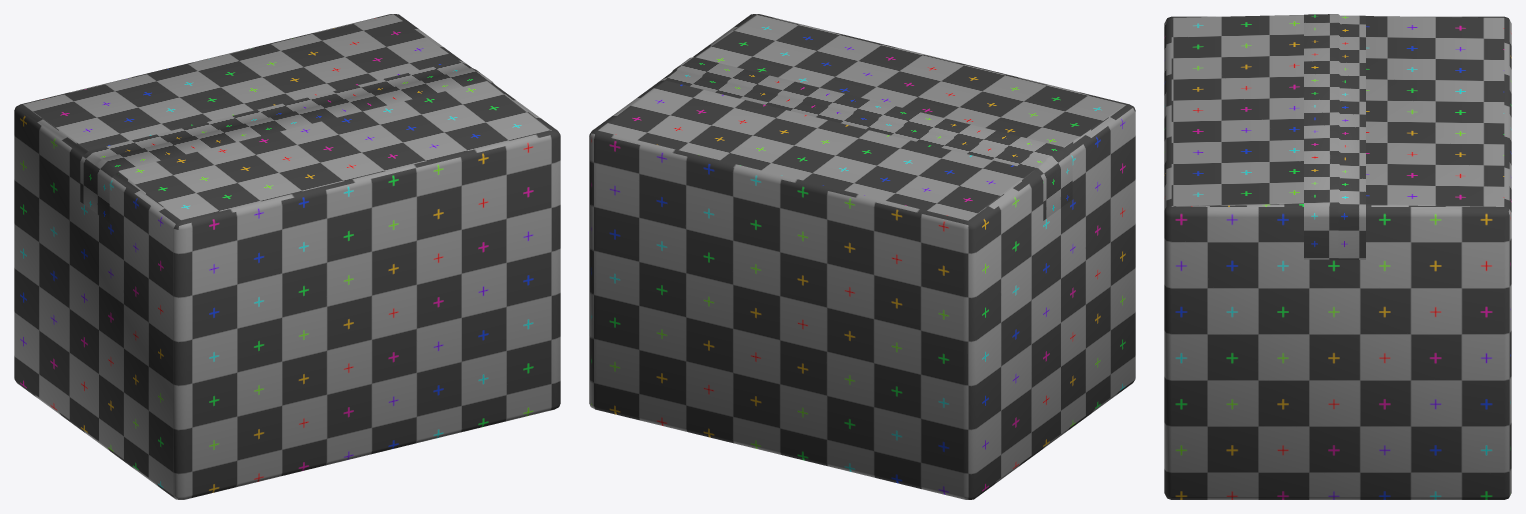
Rendered from package_uv.glb.
3 views of the same model, side by side, from view 1: azimuth 30°, elevation 25°; view 2: azimuth 150°, elevation 25°; view 3: azimuth 270°, elevation 25° (orthographic). The views are drawn at different scales.
Visible parts, largest first — view 1: Box; view 2: Box; view 3: Box.
Part boxes in pixels (bbox=[...]): Box: bbox=[14, 14, 560, 499]; Box: bbox=[589, 14, 1135, 499]; Box: bbox=[1164, 14, 1511, 499].
Bounding box in the file's own units: 0.4794 × 0.3343 × 0.3557.
Materials: 2 (2 with a texture image).
